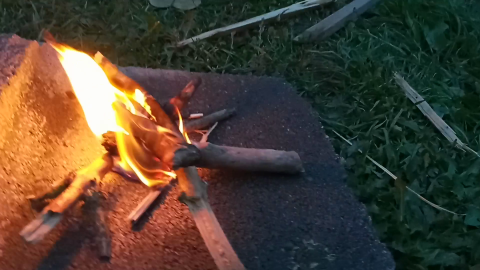fire: (37, 29, 205, 195)
